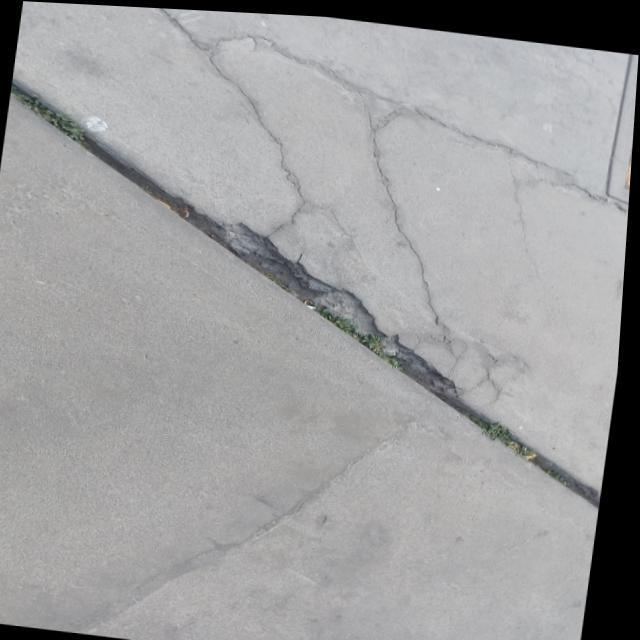hole: (166, 194, 462, 424)
